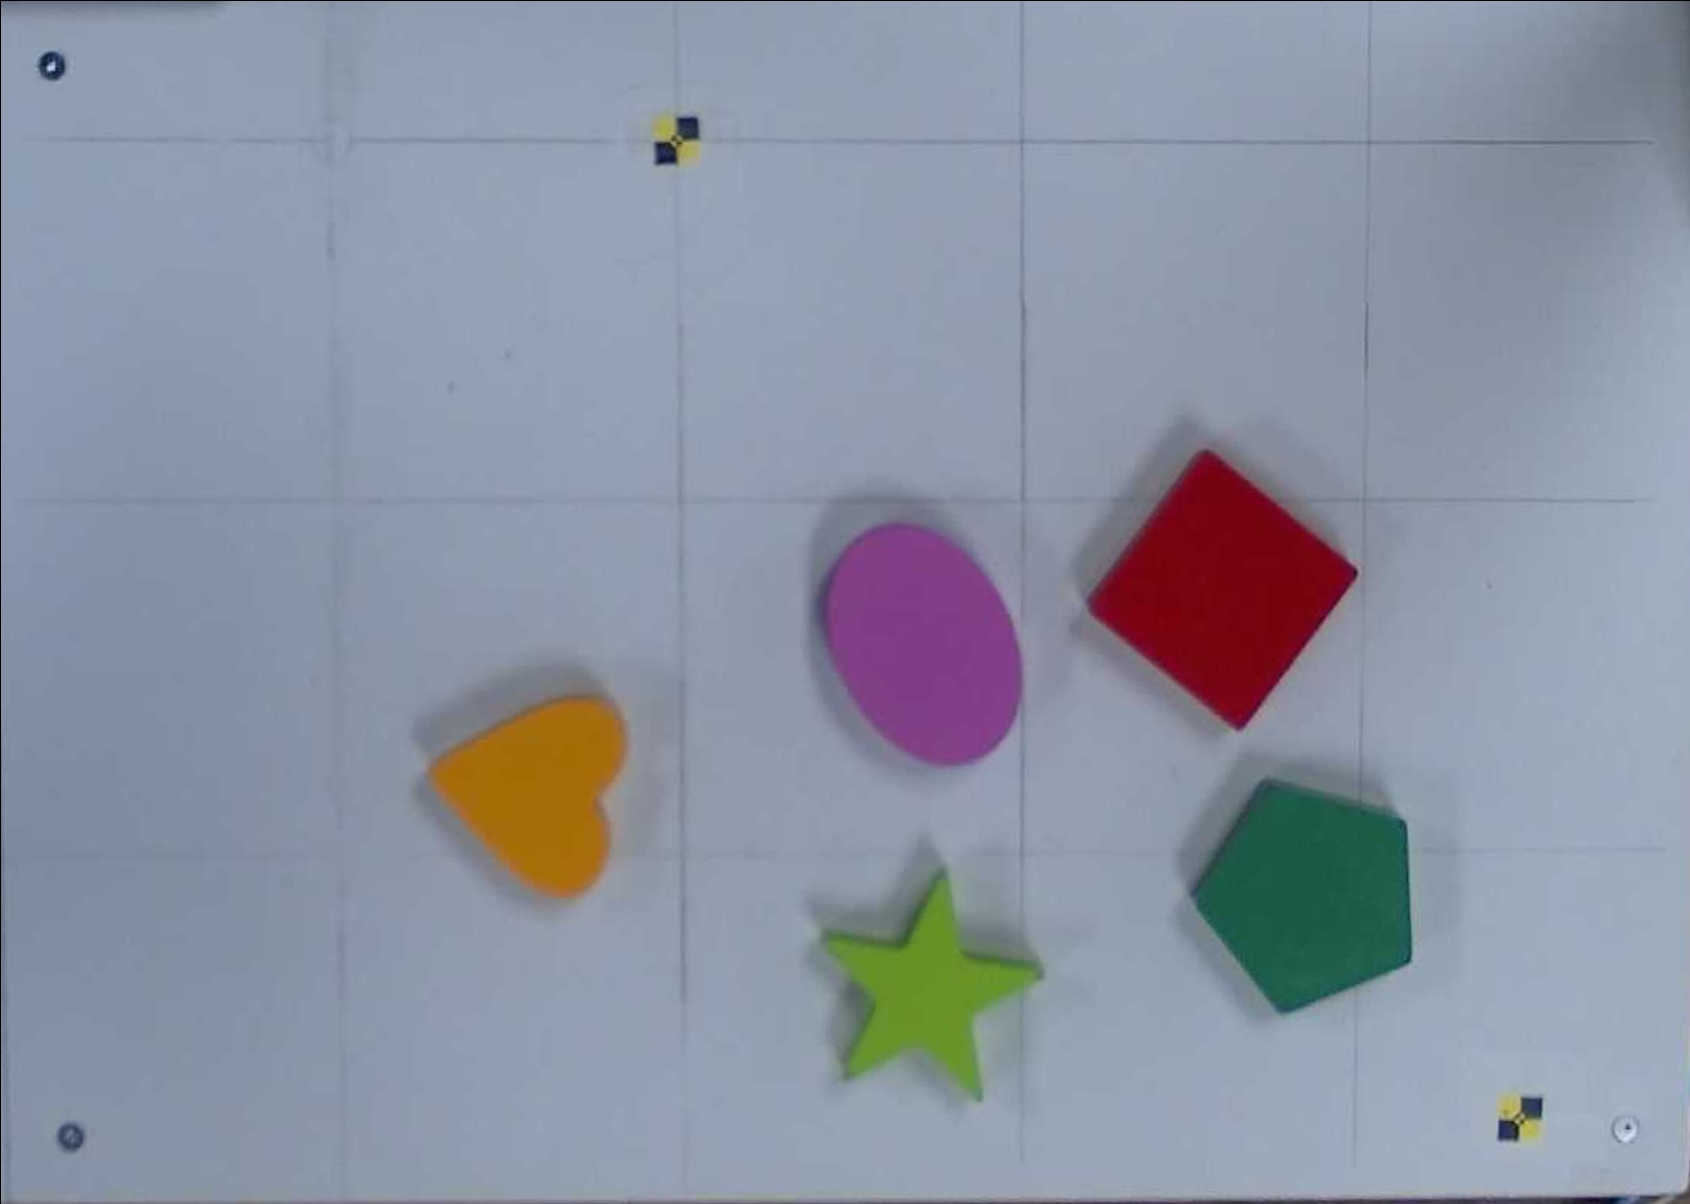Ellipse: (823, 523, 1022, 766)
Heart: (428, 695, 626, 899)
Pentagon: (1191, 779, 1413, 1013)
Square: (1089, 449, 1359, 730)
Star: (821, 873, 1041, 1105)
